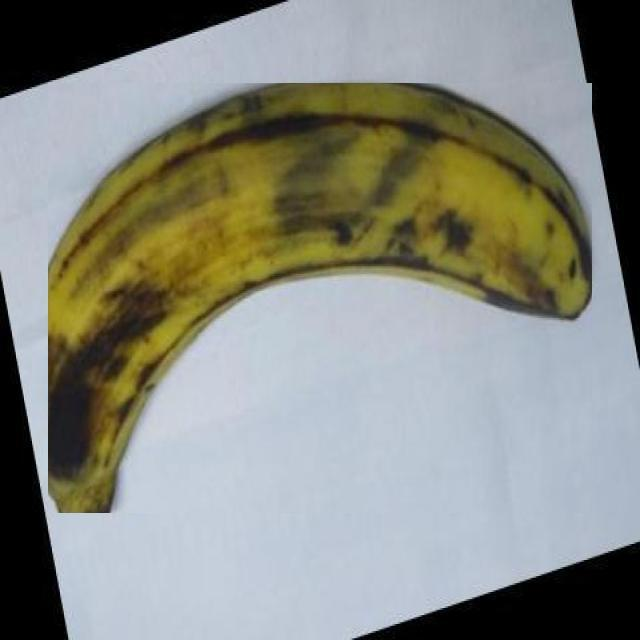Execivamente Madura: (49, 83, 593, 513)
